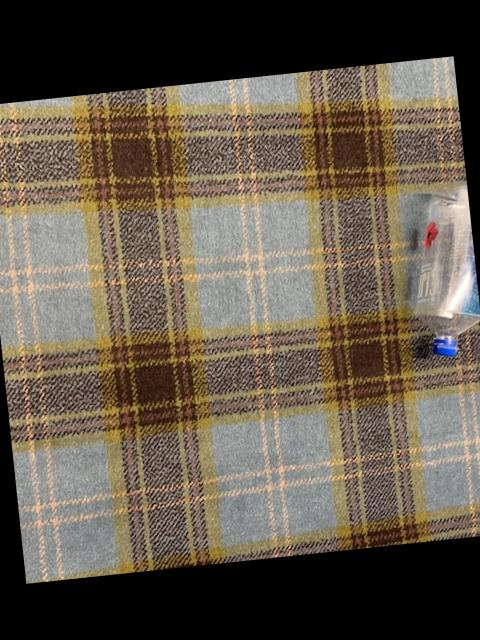plastic: (415, 185, 480, 354)
